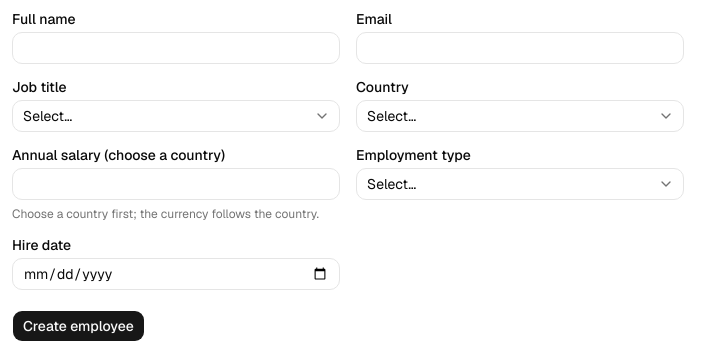
Scenario: EmployeeForm (create) › labels the salary with the currency of the selected country
expect the field labelled "Annual salary (choose a country)" is shown: met, box [12,168,340,200]
expect the text "Annual salary (choose a country)" is shown: met, box [12,146,225,164]
Step 1. Select "India (INR)" in the dropdown labelled "Country" → (520,116), box [356,100,684,132]
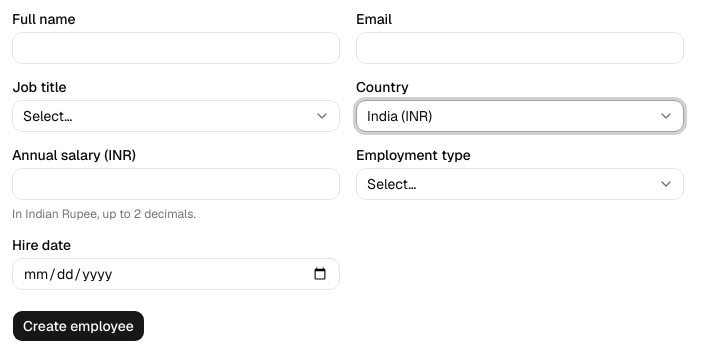
expect the text "Annual salary (INR)" is shown: met, box [12,146,136,164]
Step 2. Select "Japan (JPY)" in the dropdown labelled "Country" → (520,116), box [356,100,684,132]
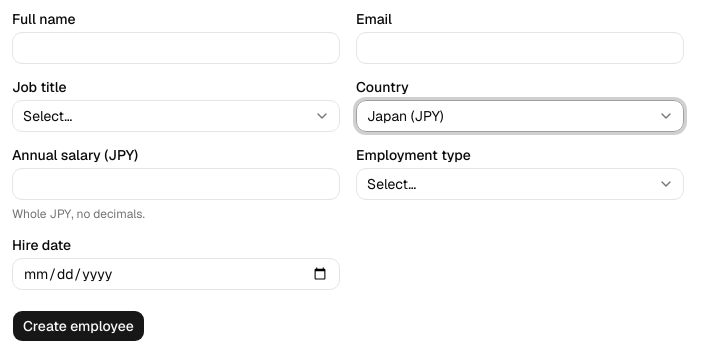
expect the text "Annual salary (JPY)" is shown: met, box [12,146,138,164]
